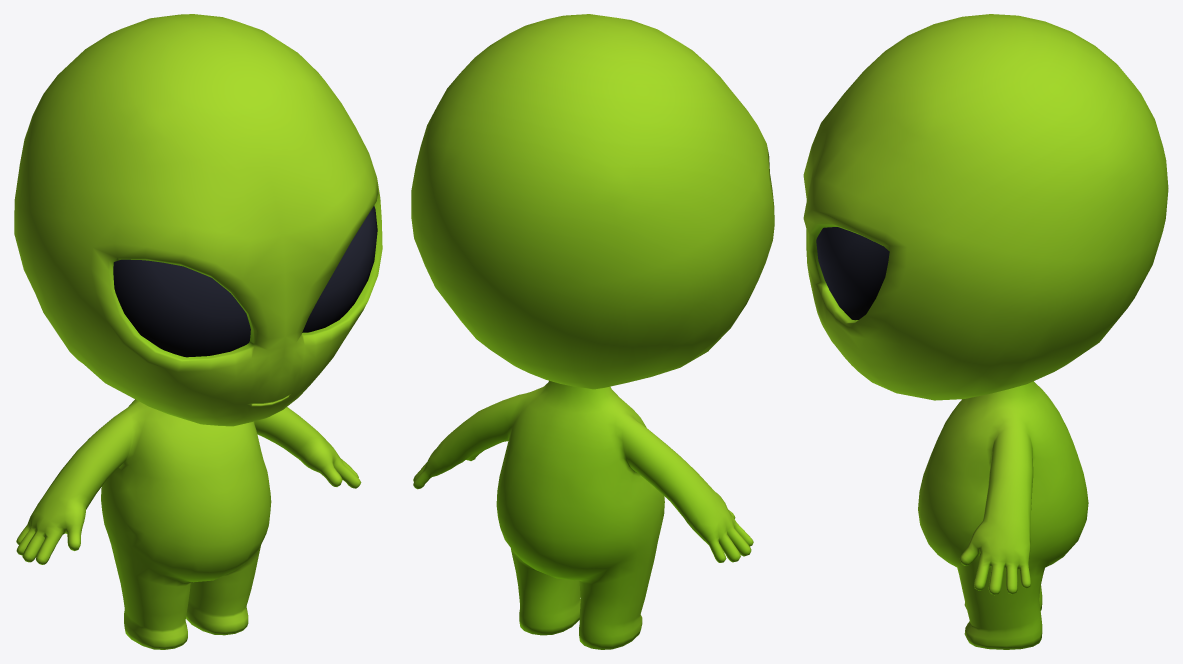
The model's file is alien.fbx.
The picture shows the model from 3 angles, left to right: view 1: azimuth 30°, elevation 25°; view 2: azimuth 150°, elevation 25°; view 3: azimuth 270°, elevation 25°; orthographic projection.
Visible parts, largest first — view 1: Alien; view 2: Alien; view 3: Alien.
Boxes of the visible parts, x1,y1,x2,y2 form: Alien: (14,14,382,649); Alien: (411,14,774,649); Alien: (803,14,1168,649).
Size of the model in its own units: 7516 by 12898 by 7173.
Materials: 1 (1 with a texture image).
